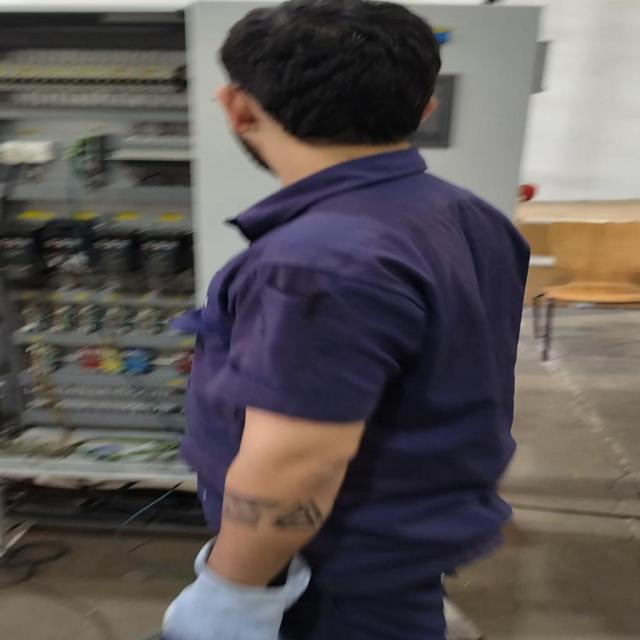Gloves-Detection: (153, 527, 311, 640)
